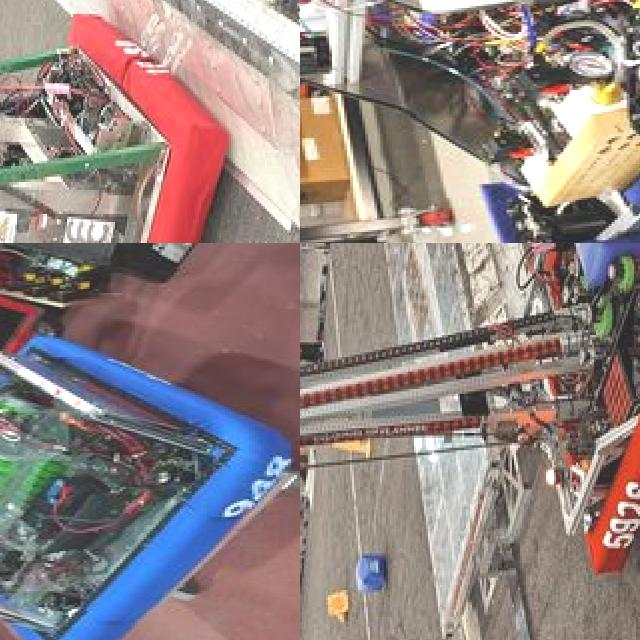FRC-Robots: (300, 243, 640, 584), (0, 299, 300, 640), (300, 0, 640, 243), (0, 10, 210, 243)
